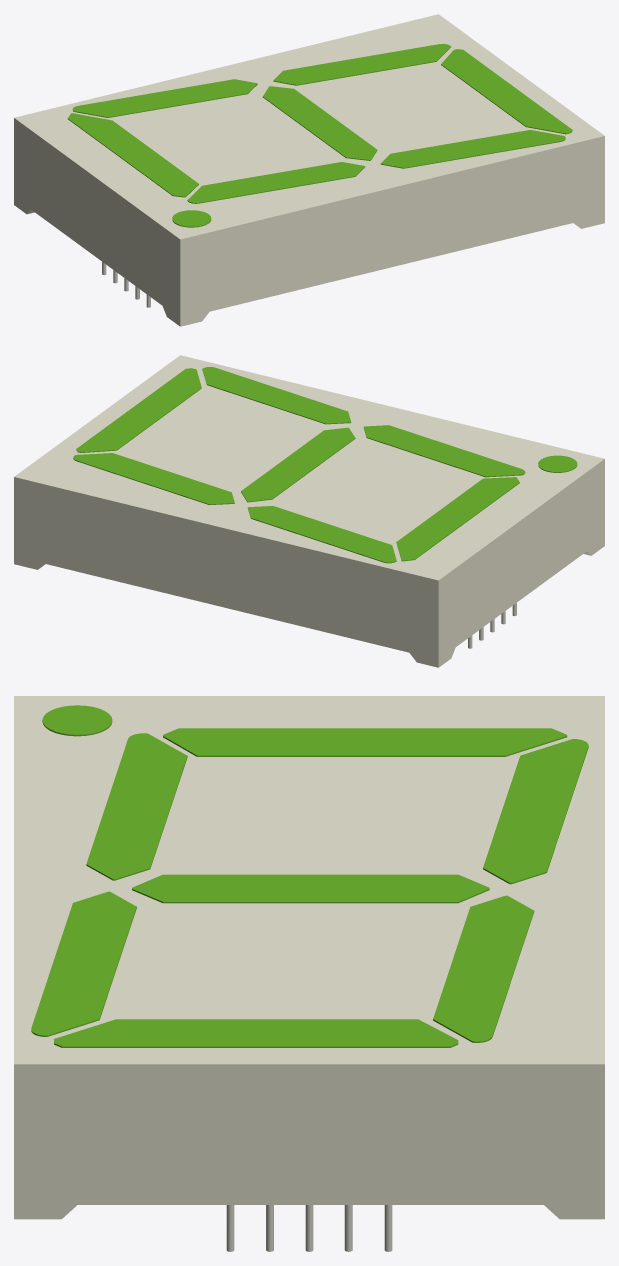
Rendered from kc-sbc18-11surkcgkwa.glb.
3 renders of one model, top to bottom at view 1: azimuth 30°, elevation 25°; view 2: azimuth 150°, elevation 25°; view 3: azimuth 270°, elevation 25°, orthographic. The views are drawn at different scales.
Visible parts, largest first — view 1: 0.75_0.75_0.6666666666666666_0, 0.16666666666666666_0.4166666666666667_0_0; view 2: 0.75_0.75_0.6666666666666666_0, 0.16666666666666666_0.4166666666666667_0_0; view 3: 0.75_0.75_0.6666666666666666_0, 0.16666666666666666_0.4166666666666667_0_0, 0.6666666666666666_0.6666666666666666_0.5833333333333334_0.8.
Boxes of the visible parts, x1=… form: 0.75_0.75_0.6666666666666666_0: x1=14, y1=14, x2=604, y2=326; 0.16666666666666666_0.4166666666666667_0_0: x1=67, y1=44, x2=572, y2=227; 0.75_0.75_0.6666666666666666_0: x1=14, y1=355, x2=604, y2=667; 0.16666666666666666_0.4166666666666667_0_0: x1=73, y1=367, x2=577, y2=563; 0.75_0.75_0.6666666666666666_0: x1=14, y1=696, x2=604, y2=1219; 0.16666666666666666_0.4166666666666667_0_0: x1=31, y1=705, x2=588, y2=1047; 0.6666666666666666_0.6666666666666666_0.5833333333333334_0.8: x1=226, y1=1205, x2=392, y2=1251.
Size of the model in its own units: 5.6 by 1.51 by 3.8.
